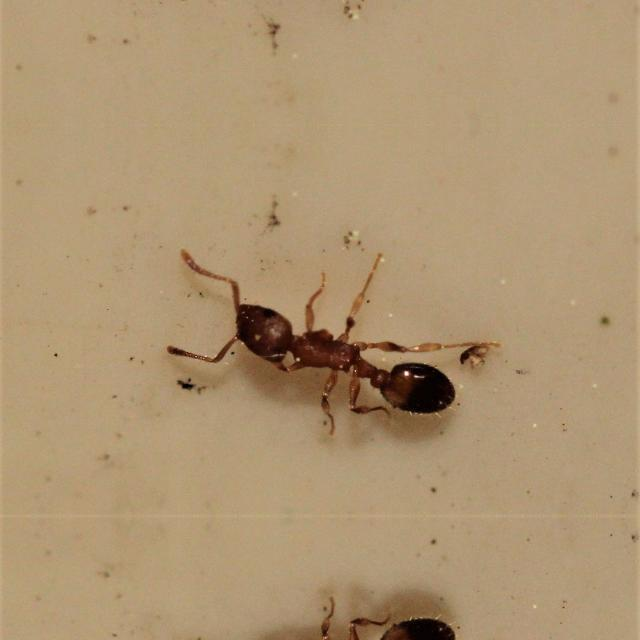Temnothorax: (168, 256, 500, 439), (167, 590, 498, 640)
